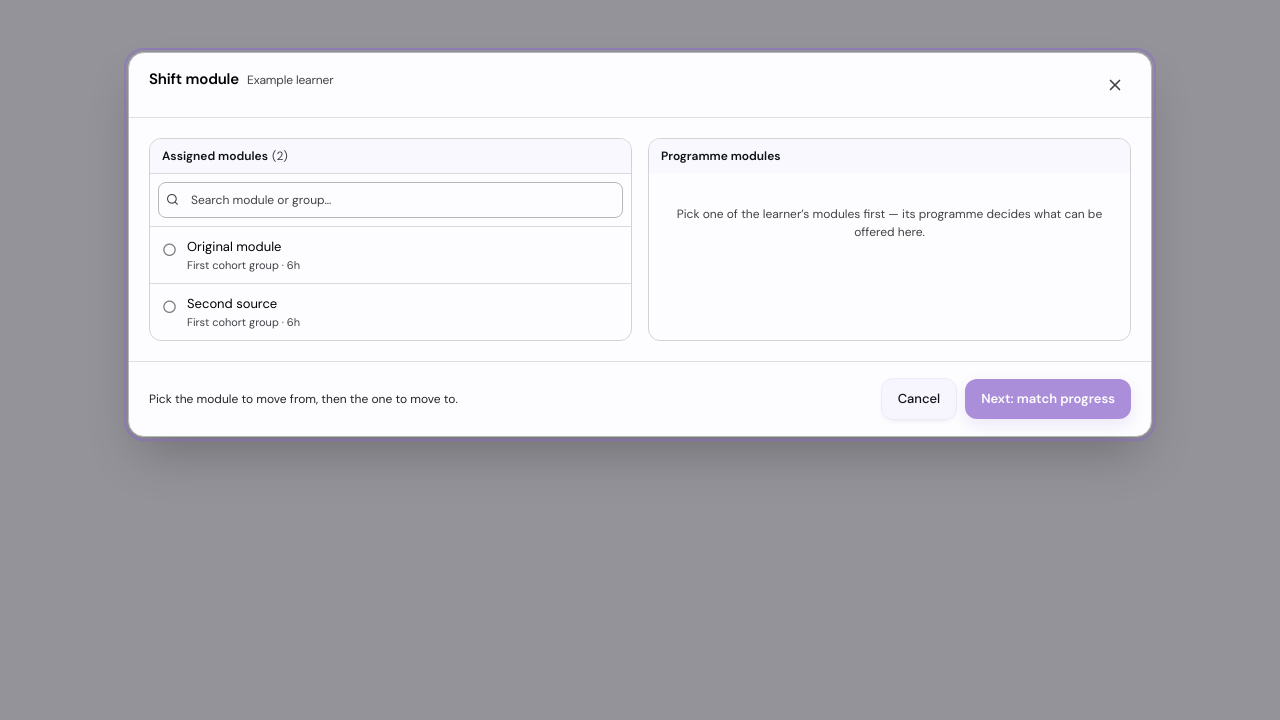
it: programme-wide module shift › keeps the dialog usable when the server returns missing programme metadata
Click the button "Original module First cohort group · 6h".
click(234, 246)  # box [150,226,631,283]
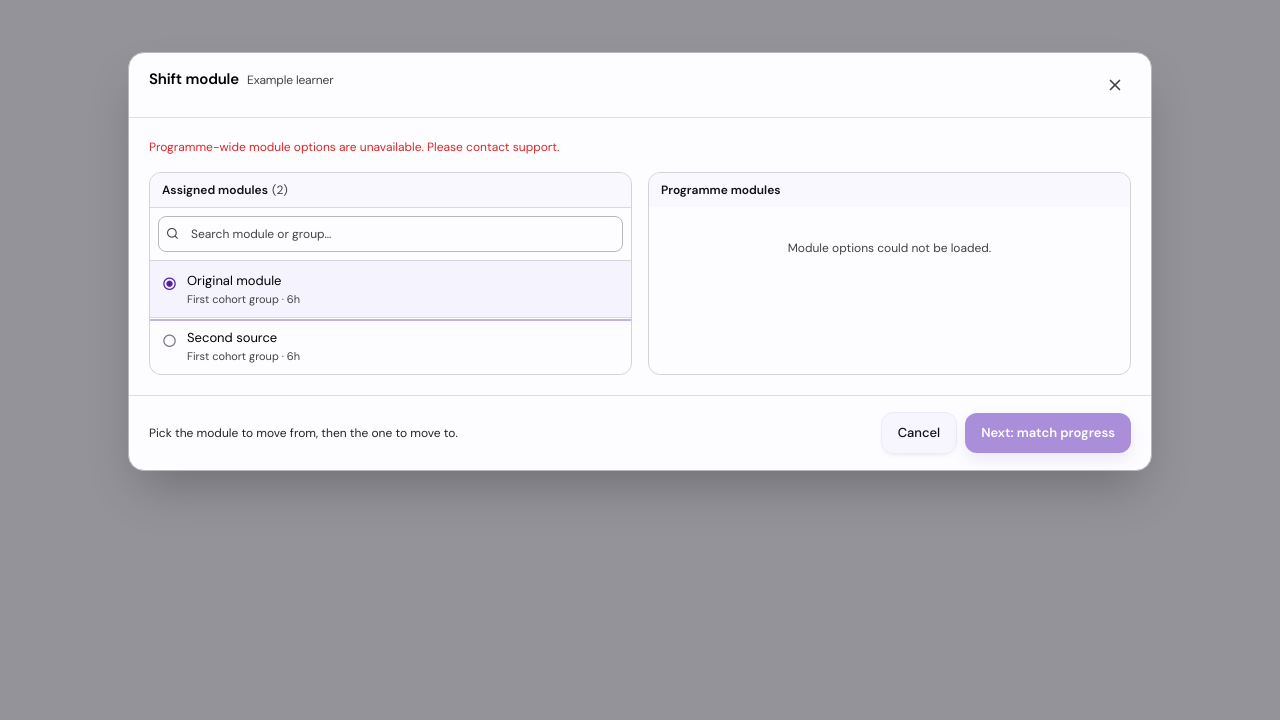
expect the dialog is shown: met, box [128,52,1152,470]
expect the text "Programme-wide module options are unavailable. Please contact support." is shown: met, box [149,139,559,155]
Click the button "Second source First cohort group · 6h".
click(232, 338)  # box [150,317,631,374]
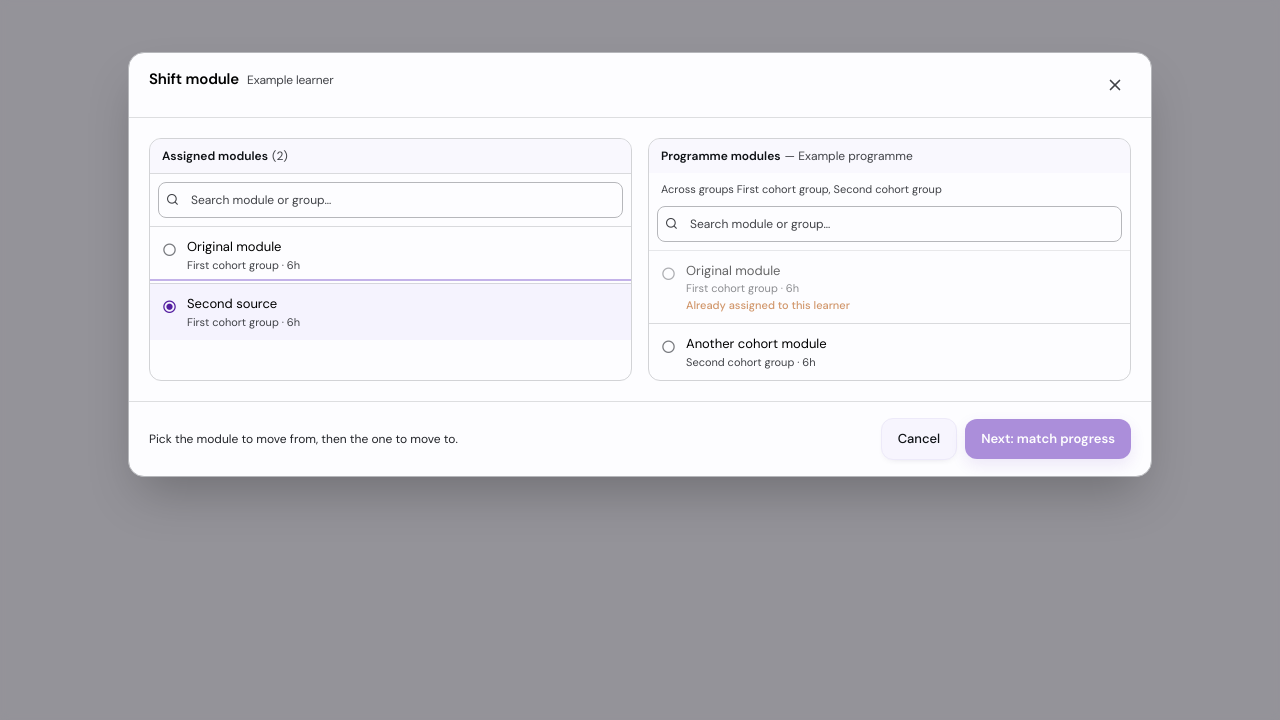
Click the button "Another cohort module Second cohort group · 6h".
click(756, 344)  # box [649,323,1130,380]
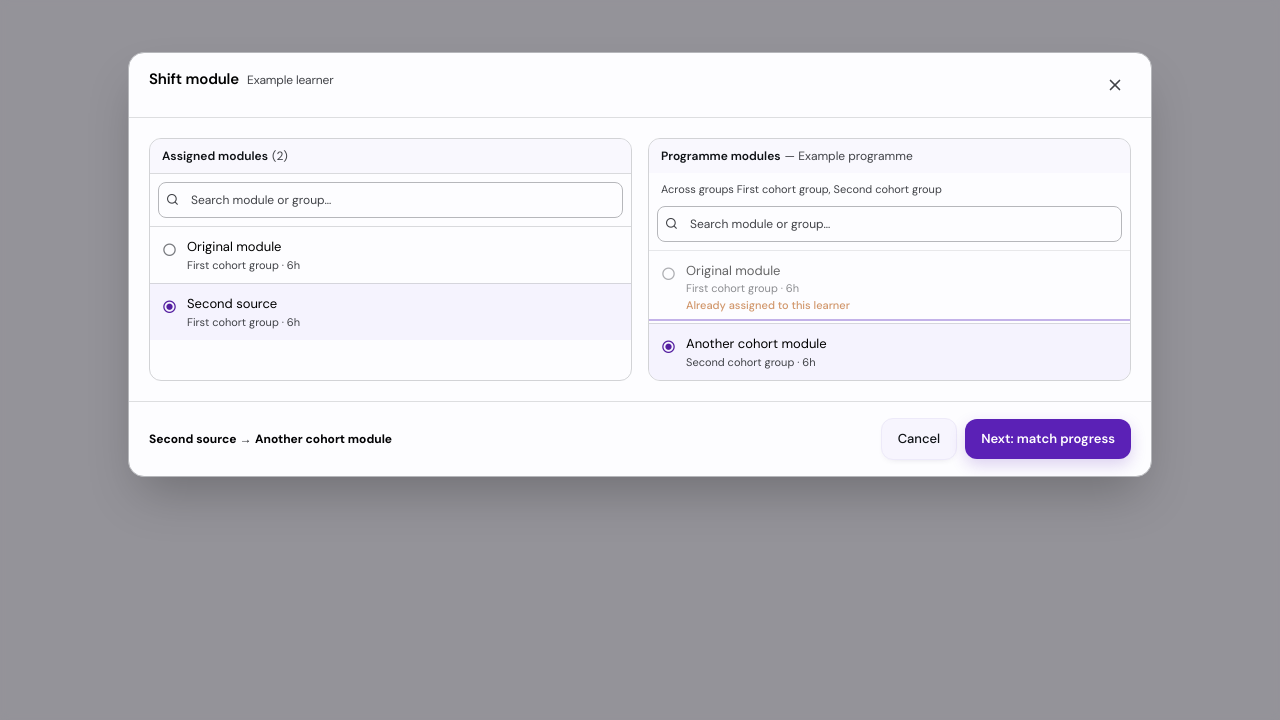
expect the text "Programme-wide module options are unavailable. Please contact support." is not shown: met
expect the button "Next: match progress" is enabled: met, box [965,419,1131,458]
